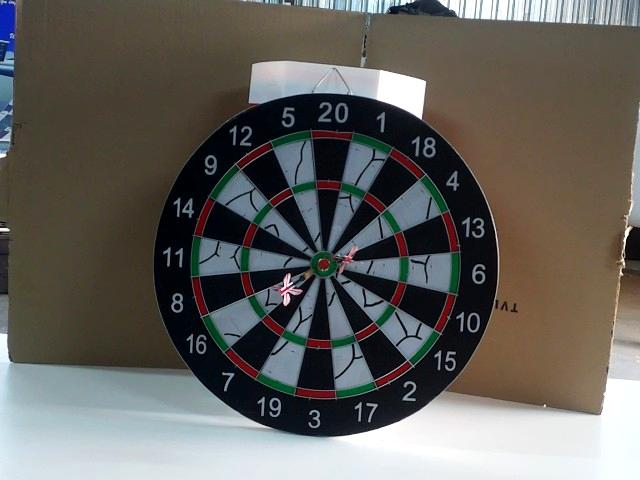bullseye: (314, 252, 336, 278)
